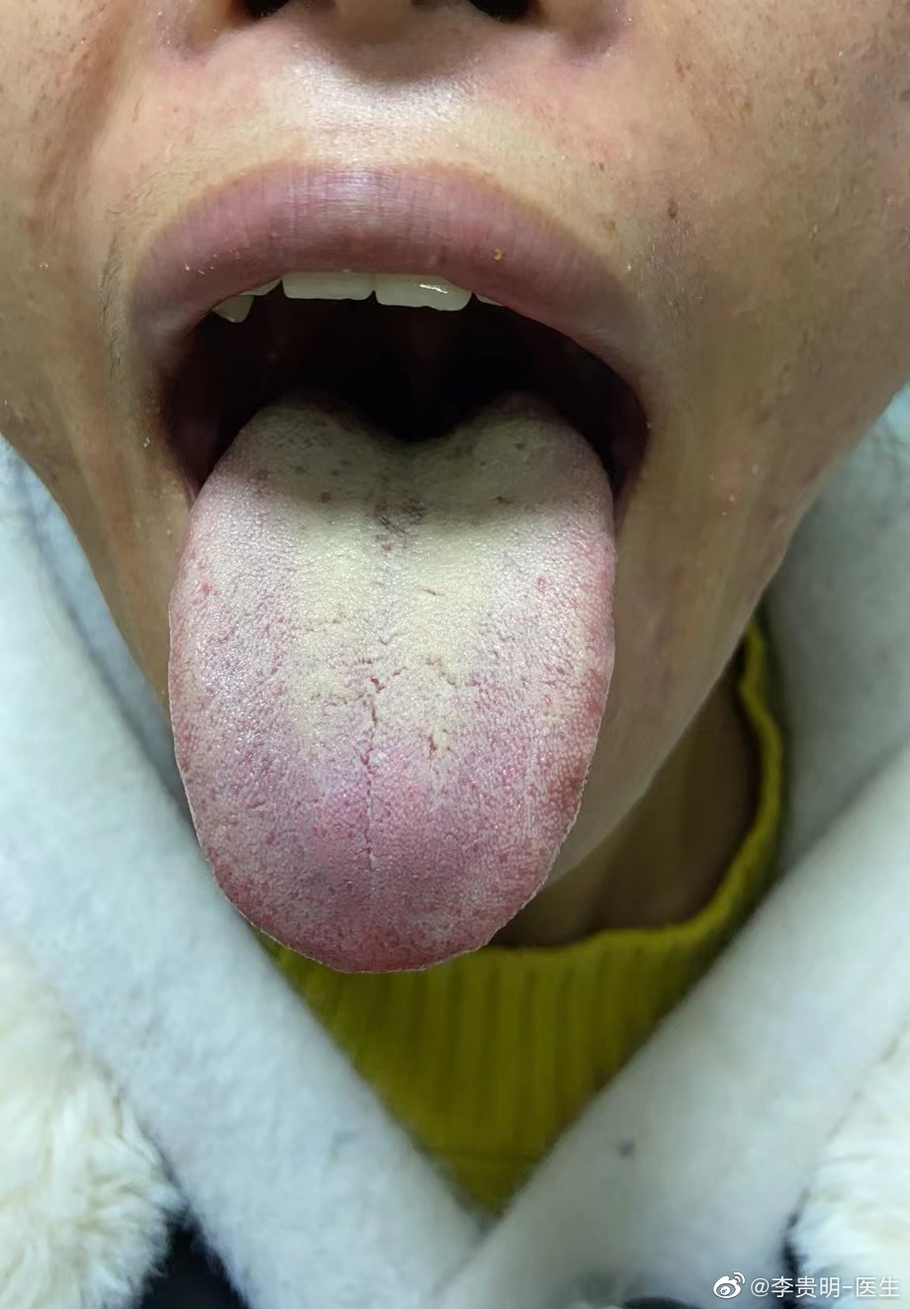huangtaishe: (166, 396, 617, 972)
liewenshe: (356, 663, 405, 879)
shenquao: (287, 398, 523, 482)
